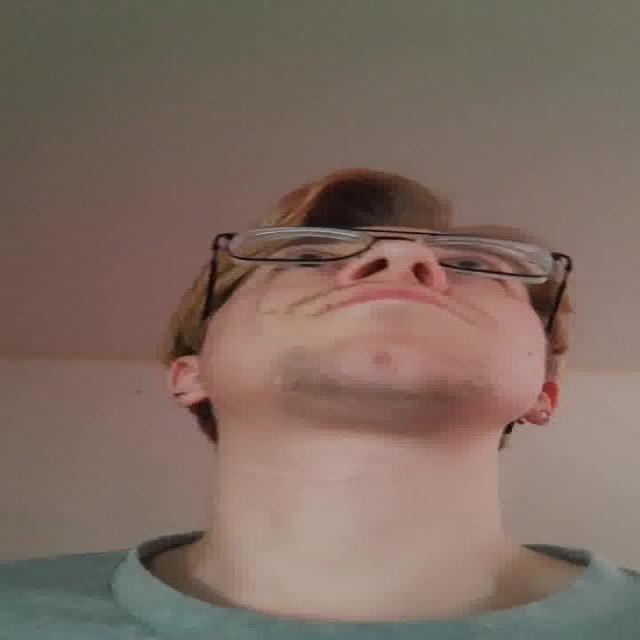earlobe: (169, 386, 214, 409), (526, 406, 551, 430)
eye: (272, 250, 342, 272), (445, 259, 507, 279)
nose: (345, 266, 443, 296)
wholeear: (165, 356, 212, 410), (528, 373, 565, 428)
